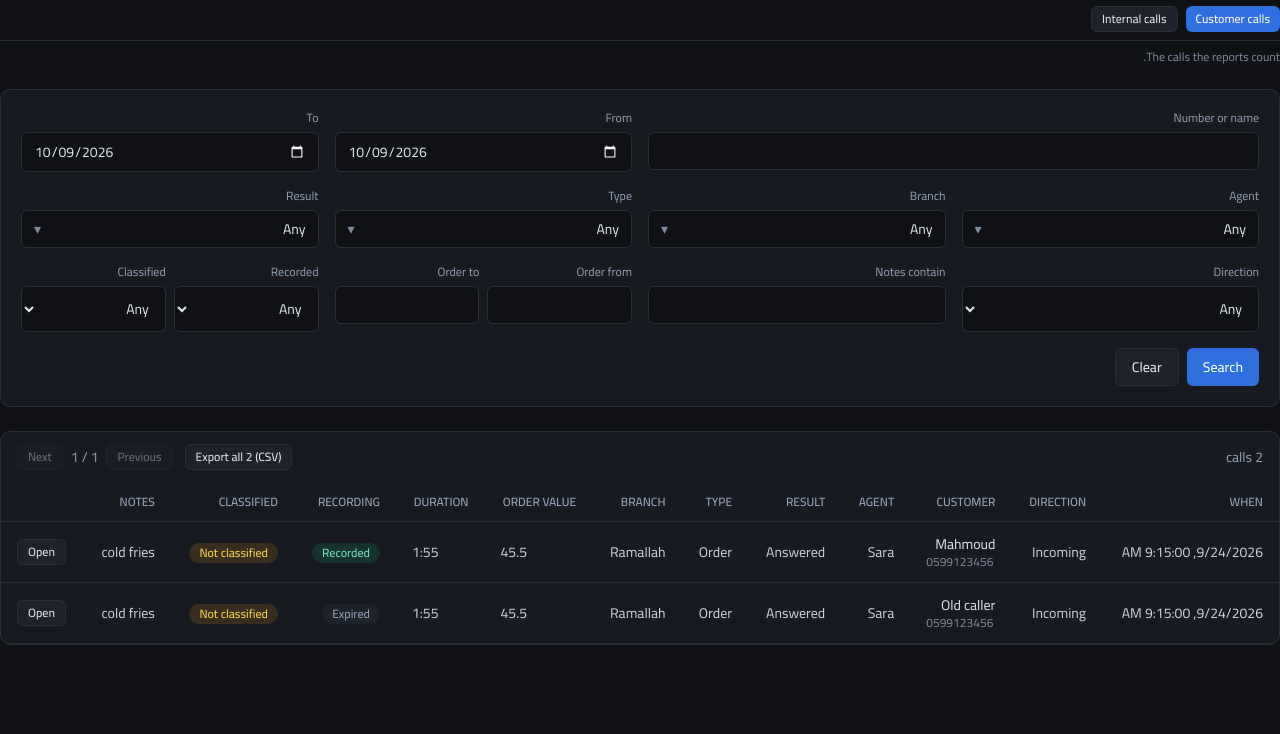
Scenario: calls page › says a recording has expired rather than fetching audio that is gone
The width and height of the screenshot is (1280, 734).
Double-click the text "Old caller": (640, 613) [1,582,1279,644]
(page scrolled)
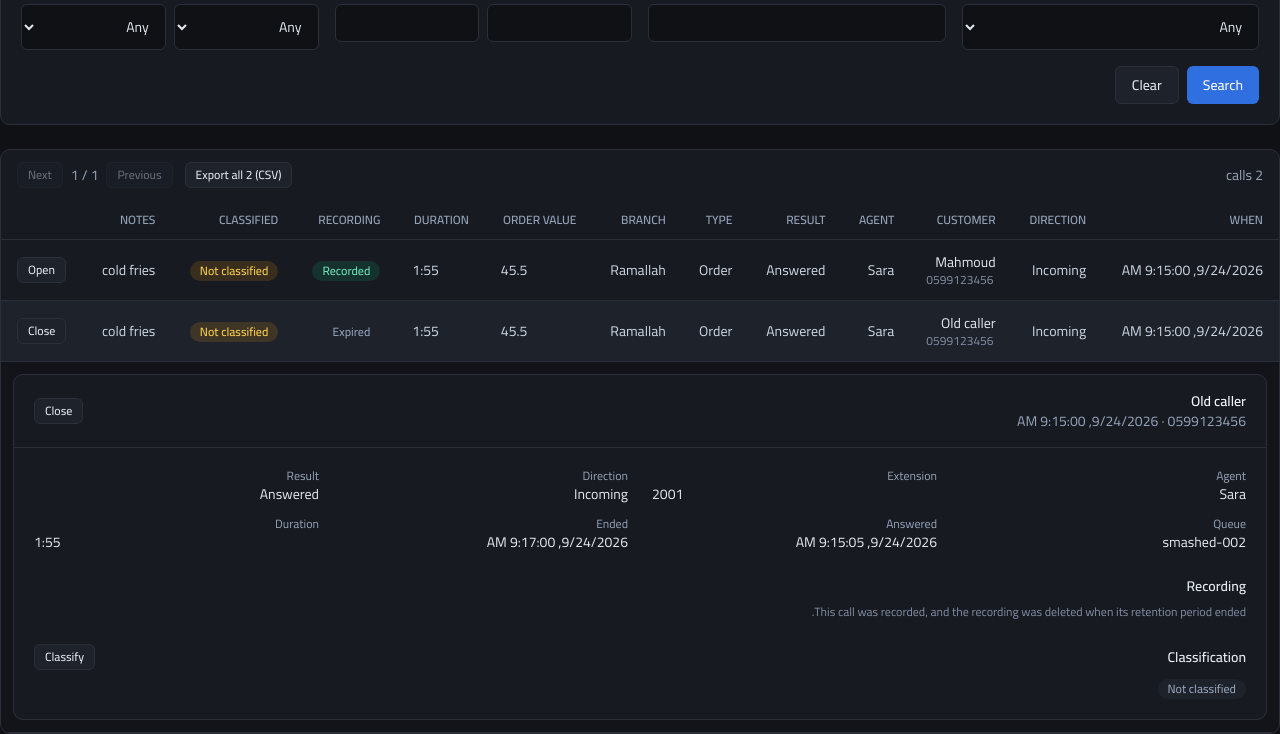
Result: the text "deleted when its retention period ended" is shown at [812,600,1246,623]
